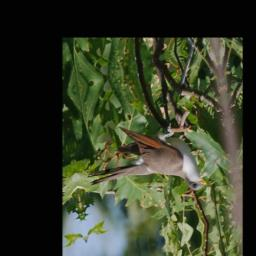Cuckoo: (81, 99, 207, 229)
